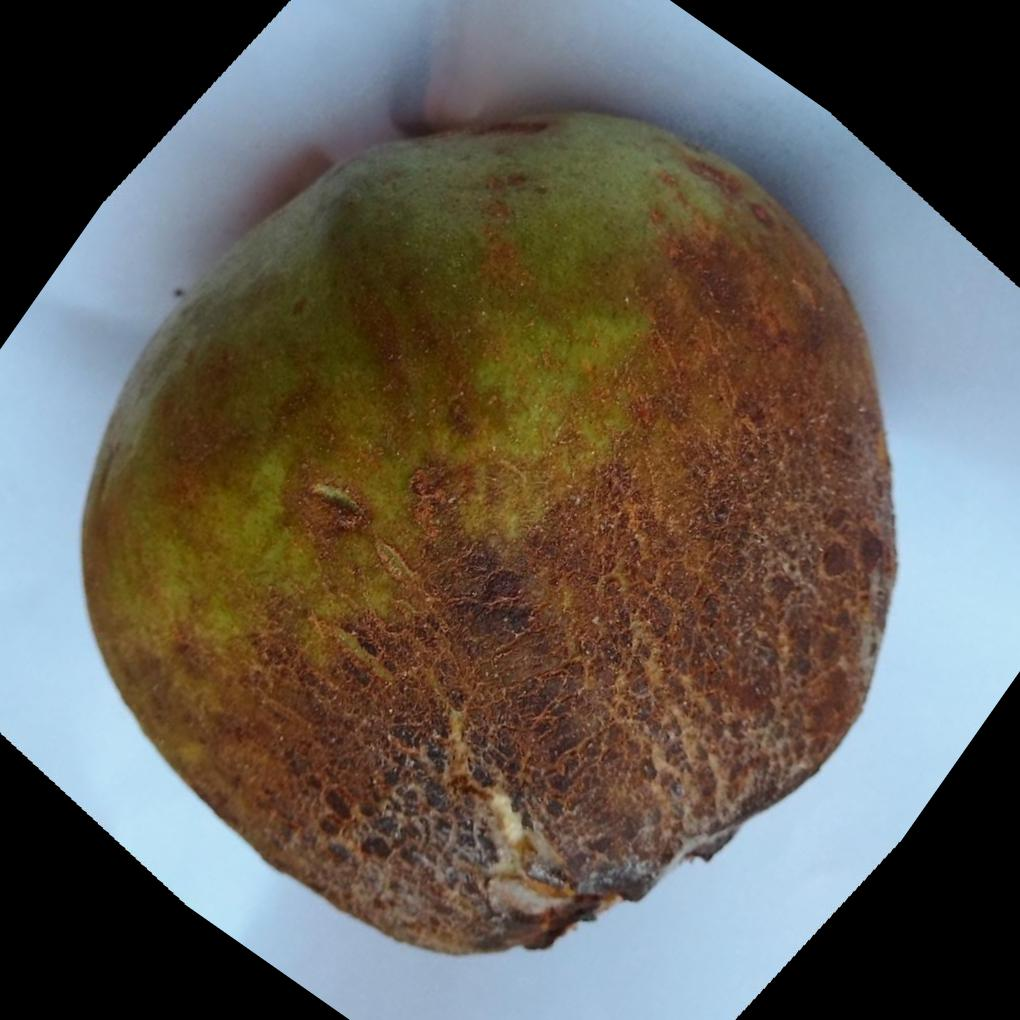FreshOrange: (80, 109, 903, 959)
